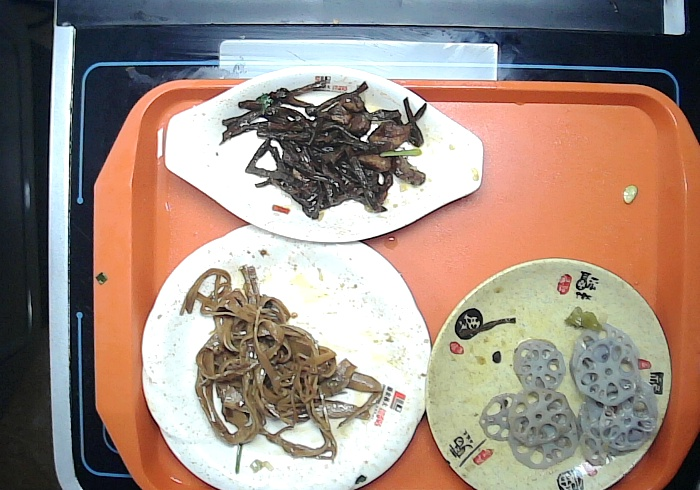NLDX-Bai_Zhe_Yuan_Pan: (139, 222, 432, 490)
NLDX-Fu_Zi_Yuan_Pan: (422, 255, 672, 490)
NLDX-Yu_Pan: (163, 63, 486, 243)
